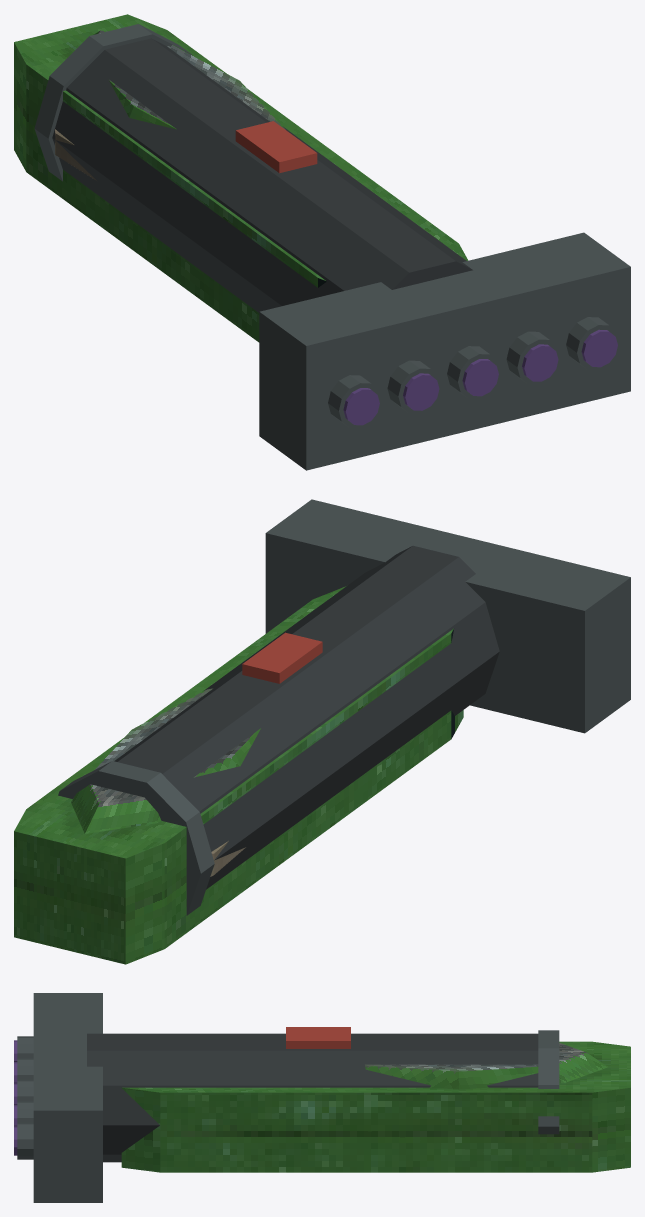
The model's file is blender_uv_light_3.glb.
3 views of the same model, one above another, from view 1: azimuth 30°, elevation 25°; view 2: azimuth 150°, elevation 25°; view 3: azimuth 270°, elevation 25° (orthographic). The views are drawn at different scales.
Visible parts, largest first — view 1: blender_uv_light_3; view 2: blender_uv_light_3; view 3: blender_uv_light_3.
Boxes of the visible parts, x1=… form: blender_uv_light_3: x1=14, y1=14, x2=630, y2=470; blender_uv_light_3: x1=14, y1=499, x2=630, y2=964; blender_uv_light_3: x1=14, y1=993, x2=630, y2=1202.
Size of the model in its own units: 0.12 by 0.0585 by 0.2665.
1 material, 1 textured.
